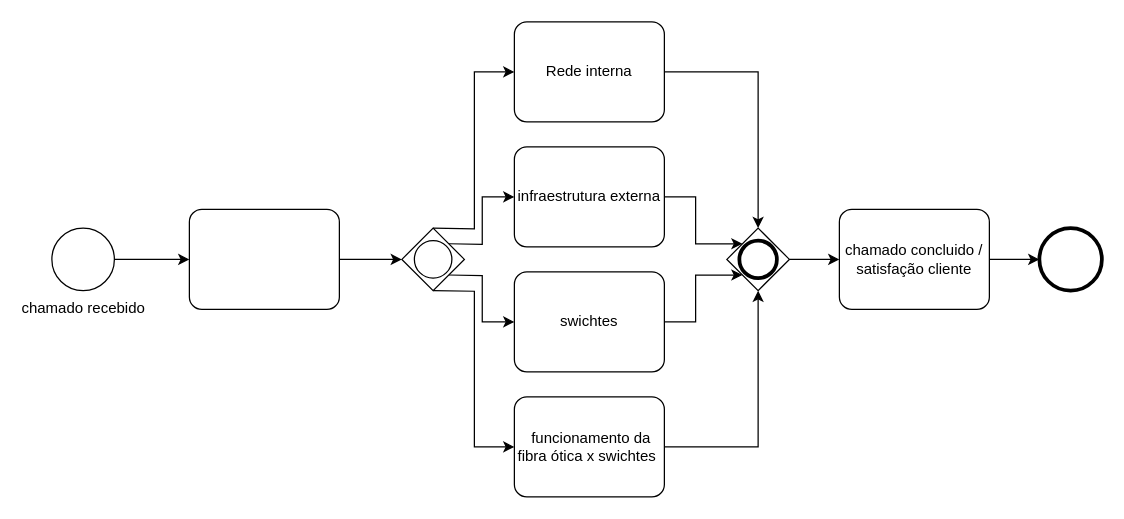
Image size: 1124x519. Some labels were removed from this diagram. The shapes that lost their labels are listed below. From the top down, each one's box as (x1, y1, x2, y2) in pixels, then its label:
(188, 208, 339, 309): verificar tipo de chamado
(1038, 227, 1102, 291): FIM
